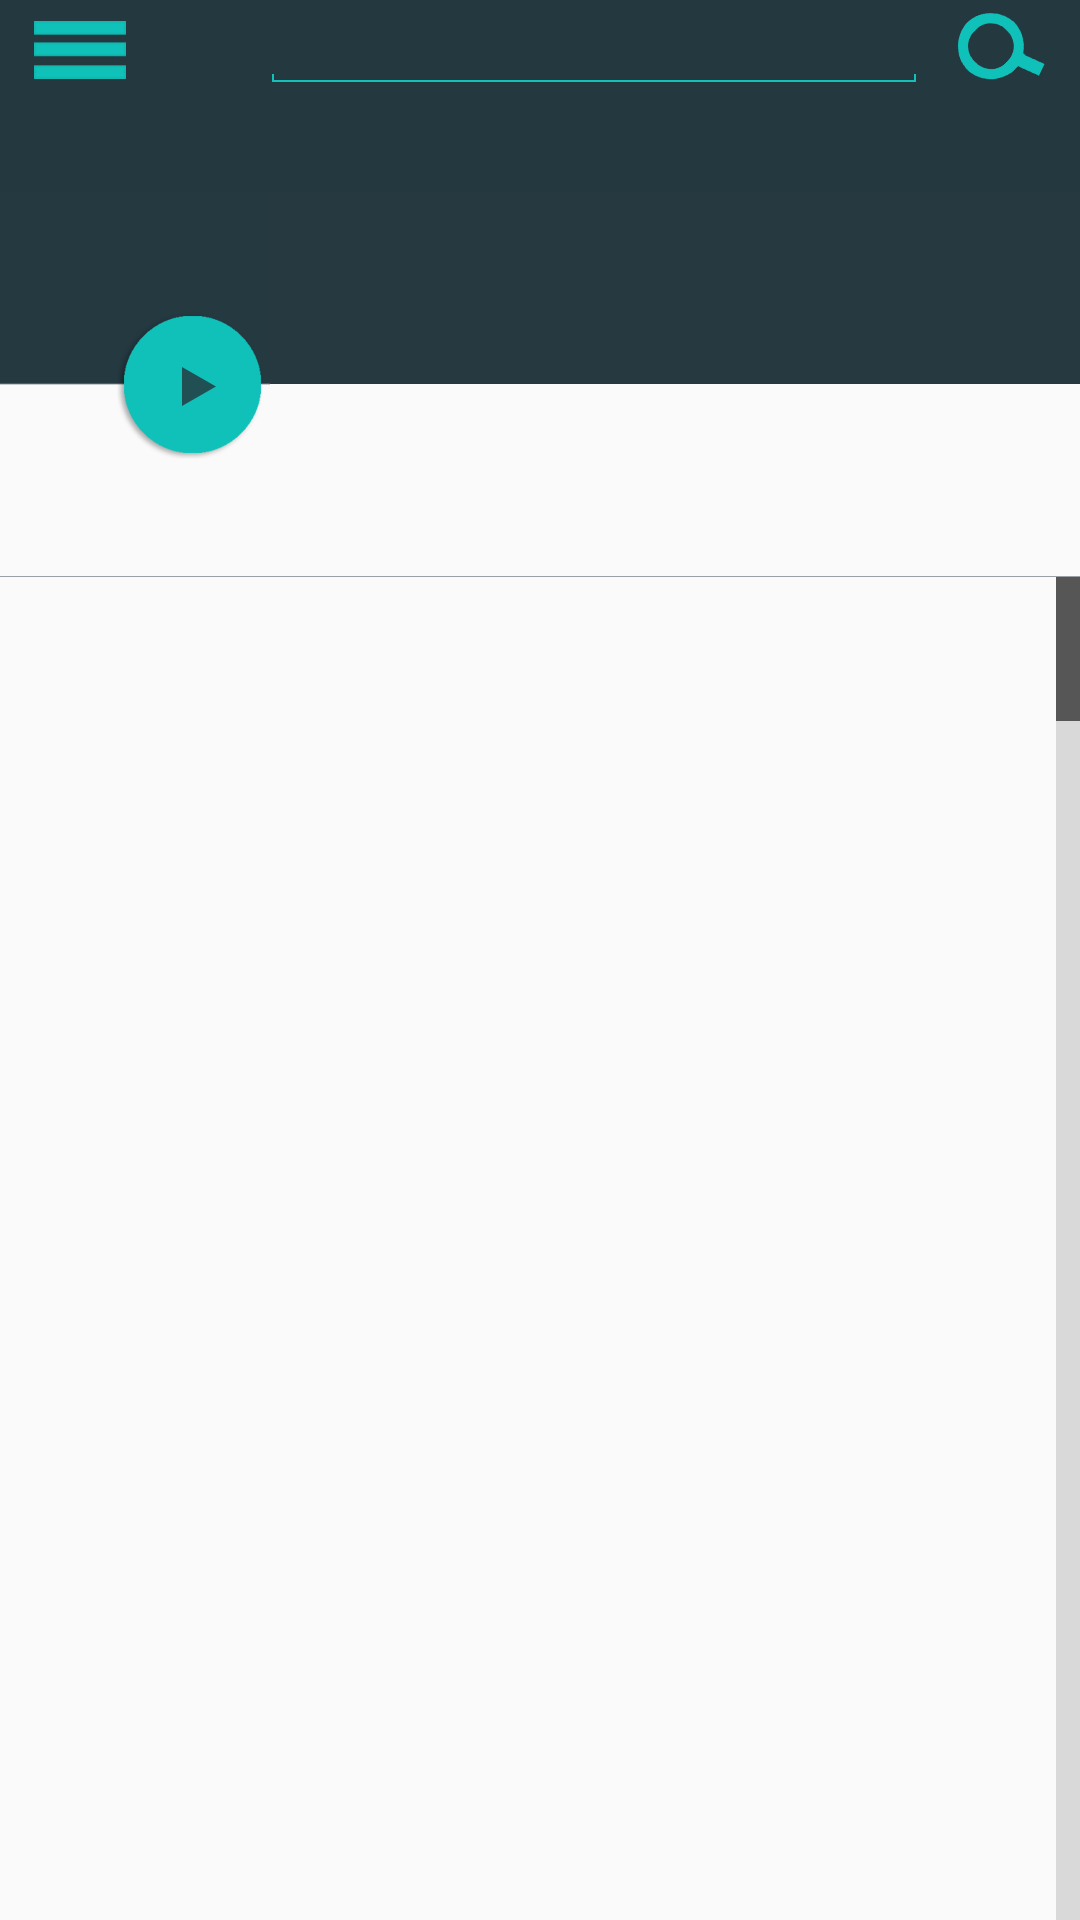

Icon click points for this 1080×1920 phone screenshot, format point (x, y):
optbtn: point (80, 50)
playbtn: point (192, 384)
searchbtn: point (1001, 46)
